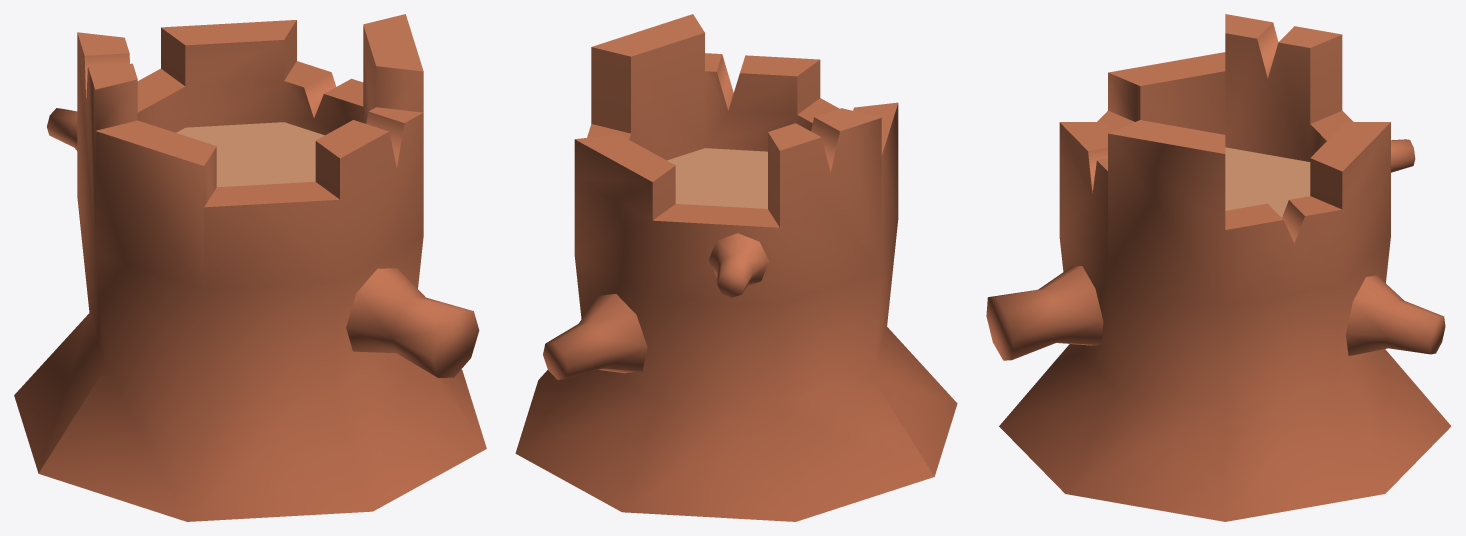
File: trunk.glb
3 renders of one model, left to right at view 1: azimuth 30°, elevation 25°; view 2: azimuth 150°, elevation 25°; view 3: azimuth 270°, elevation 25°, orthographic. The views are drawn at different scales.
Parts seen in each view (by area): view 1: trunk; view 2: trunk; view 3: trunk.
Part boxes in pixels (x1=…): trunk: x1=14, y1=14, x2=486, y2=521; trunk: x1=515, y1=14, x2=957, y2=521; trunk: x1=986, y1=14, x2=1451, y2=521.
Bounding box in the file's own units: 10.79 × 9 × 11.08.
Materials: 1 (1 with a texture image).
